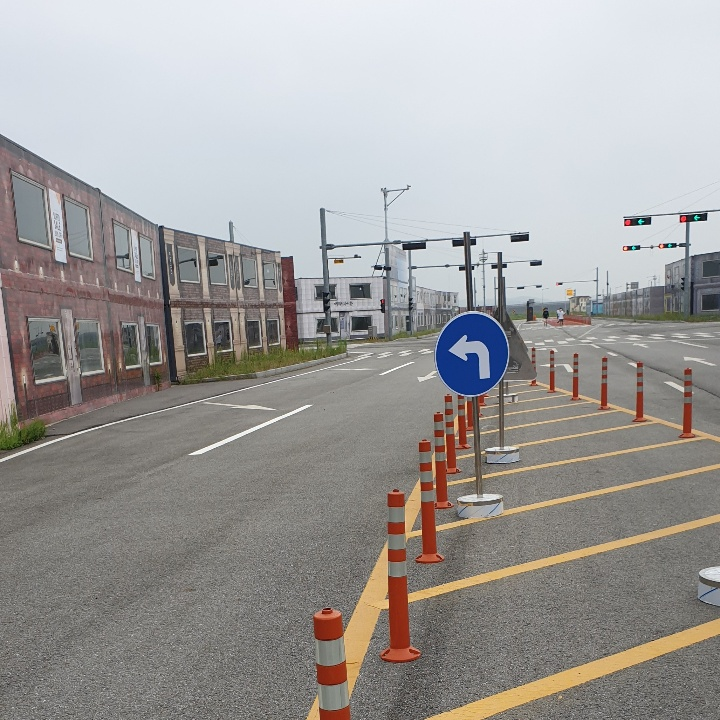left: (443, 328, 498, 385)
